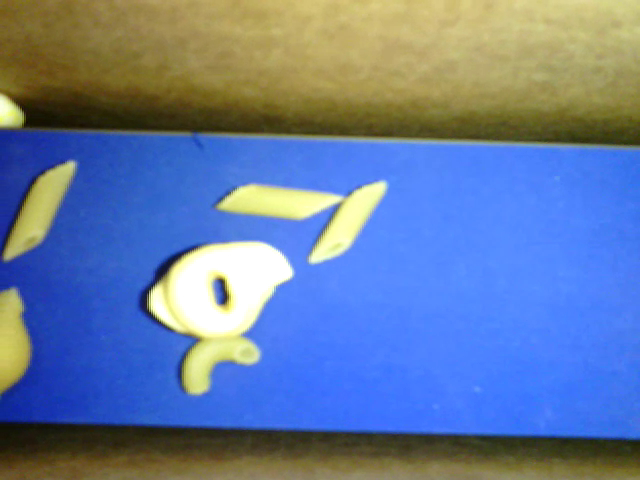elbow: (181, 336, 262, 393)
penne: (3, 161, 76, 259), (307, 180, 388, 263), (215, 182, 344, 220)
shell: (1, 288, 34, 394)
tortellini: (147, 240, 294, 339)
